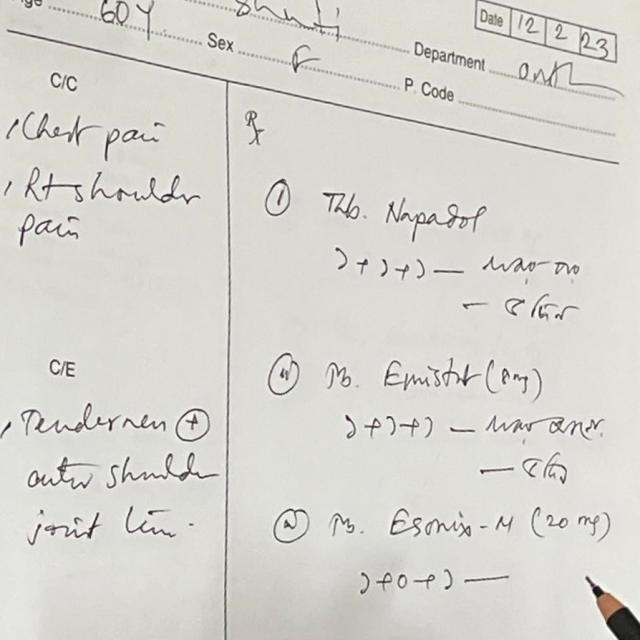Emistat: (379, 354, 478, 396)
Esonix M: (383, 505, 522, 545)
Napadol: (379, 192, 489, 241)
